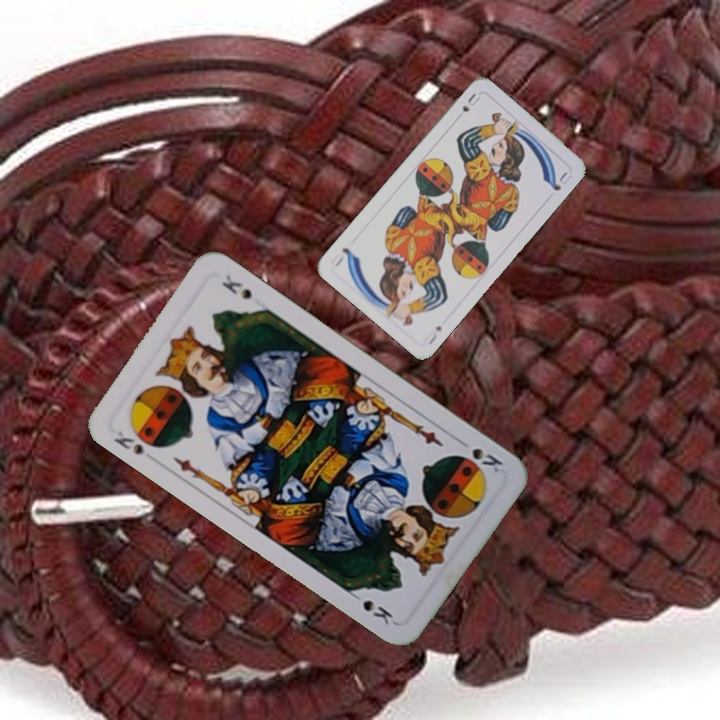SK: (468, 444, 506, 476), (110, 426, 146, 458)
SU: (458, 89, 483, 115), (424, 322, 444, 347)
